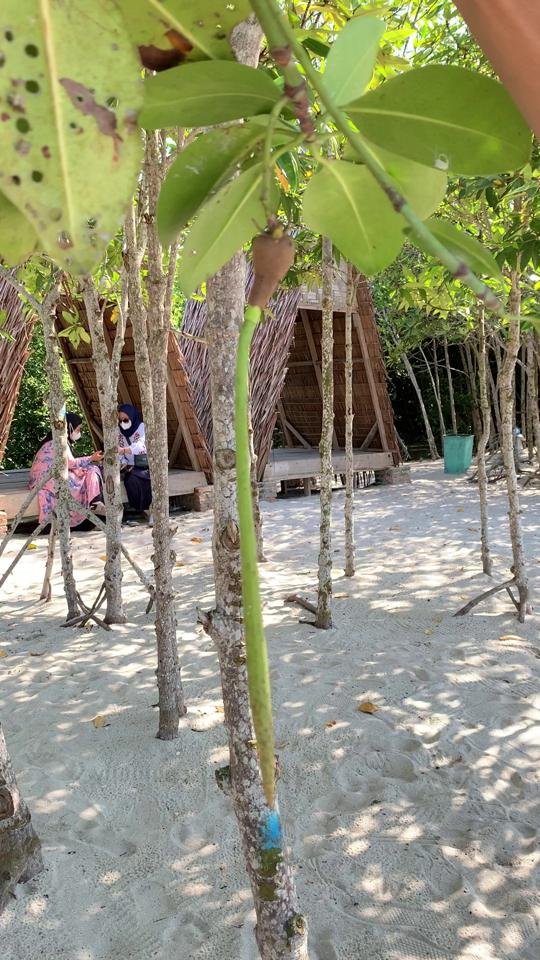setengah matang: (227, 219, 297, 822)
